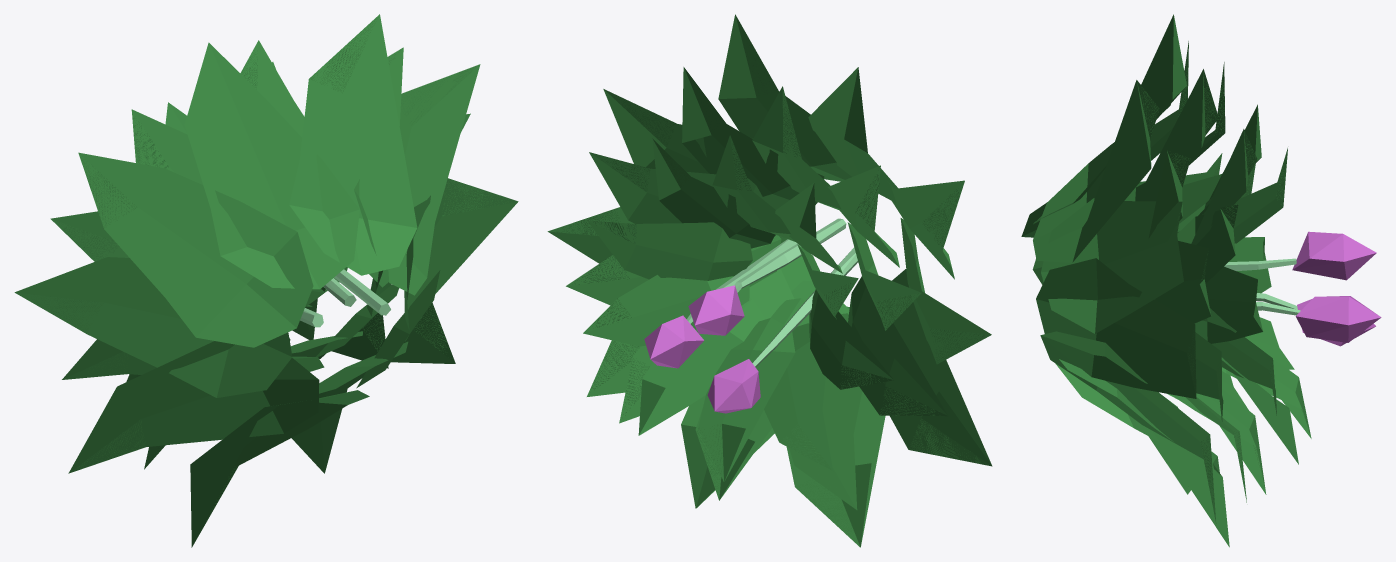
File: FlowerBushYUp.fbx
3 renders of one model, left to right at view 1: azimuth 30°, elevation 25°; view 2: azimuth 150°, elevation 25°; view 3: azimuth 270°, elevation 25°, orthographic. The views are drawn at different scales.
Parts seen in each view (by area): view 1: Cylinder.002; view 2: Cylinder.002; view 3: Cylinder.002.
Boxes of the visible parts, box(x1,y1,x2,y2) form: Cylinder.002: box(14, 14, 518, 547); Cylinder.002: box(547, 14, 992, 547); Cylinder.002: box(1021, 14, 1381, 547).
Bounding box in the file's own units: 1.5 × 1.5 × 0.9992.
